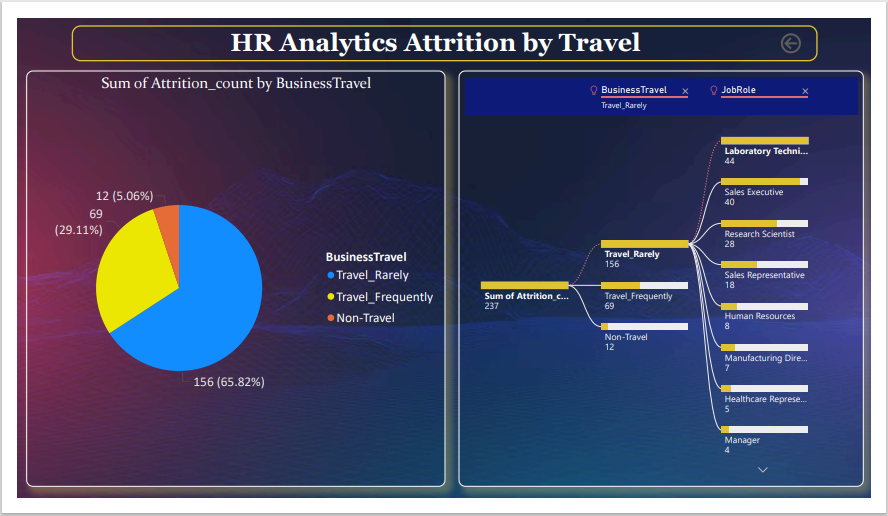

What the dashboard file says about the page in this screenshot:
{"tool":"powerbi","page":{"name":"Attrition by Travel","canvas":[1280,720],"ordinal":2},"visuals":[{"type":"shape","box":[82.2,11.3,1118.3,53.9],"z":0},{"type":"textbox","box":[161.6,11.3,931.2,53.9],"z":1000},{"type":"pieChart","fields":{"Category":["HR_Analytics.BusinessTravel"],"Y":["Sum(HR_Analytics.Attrition_count)"]},"box":[14.2,79.4,627.9,623.6],"z":2000},{"type":"decompositionTreeVisual","fields":{"Analyze":["Sum(HR_Analytics.Attrition_count)"],"ExplainBy":["HR_Analytics.BusinessTravel","HR_Analytics.JobRole"]},"box":[661.9,79.4,606.6,623.6],"z":3000},{"type":"actionButton","box":[1139.5,18.4,100.6,39.7],"z":4000}]}

Visuals, with their boxes in screenshot pixels (x1, y1, x2, y2):
shape: detection(59, 22, 824, 58)
textbox: detection(113, 22, 750, 58)
pieChart - HR_Analytics.BusinessTravel x Sum(HR_Analytics.Attrition_count): detection(12, 68, 442, 495)
decompositionTreeVisual - Sum(HR_Analytics.Attrition_count) x HR_Analytics.BusinessTravel: detection(455, 68, 870, 495)
actionButton: detection(782, 26, 851, 54)
